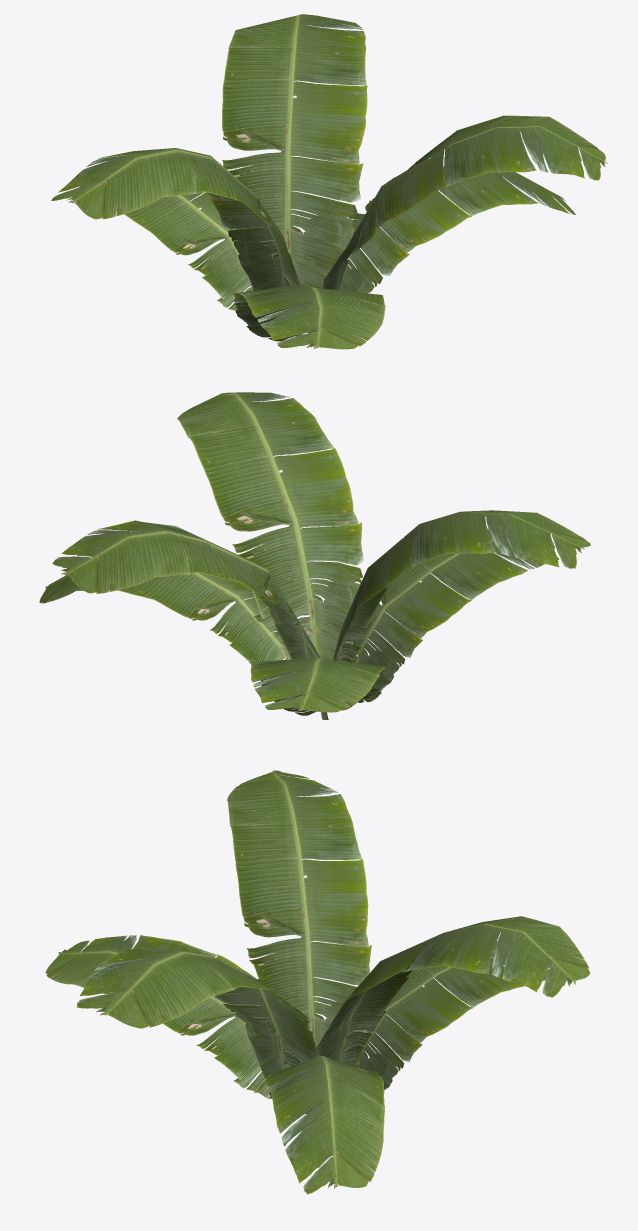
Rendered from banana_leaves.fbx.
The picture shows the model from 3 angles, top to bottom: view 1: azimuth 30°, elevation 25°; view 2: azimuth 150°, elevation 25°; view 3: azimuth 270°, elevation 25°; orthographic projection. The views are drawn at different scales.
Parts seen in each view (by area): view 1: trop_leav 4; view 2: trop_leav 4; view 3: trop_leav 4.
Boxes of the visible parts, x1,y1,x2,y2 form: trop_leav 4: [51, 14, 608, 349]; trop_leav 4: [39, 392, 590, 719]; trop_leav 4: [45, 770, 590, 1194].
Bounding box in the file's own units: 435 × 179 × 397.
Materials: 1 (1 with a texture image).
